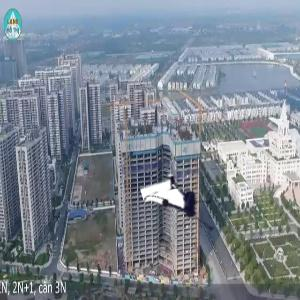drone: (149, 169, 231, 251)
